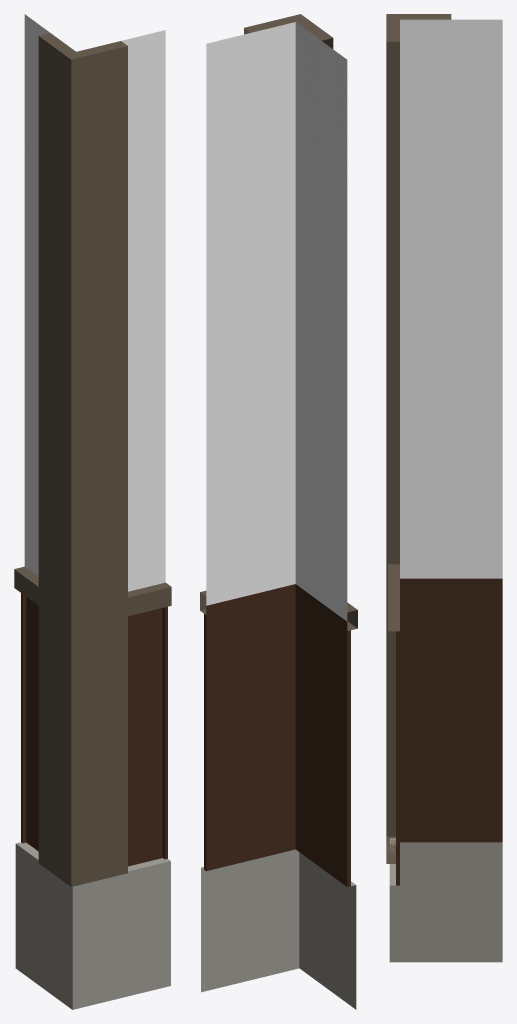
The model's file is base-c1_close.fbx.
3 renders of one model, left to right at view 1: azimuth 30°, elevation 25°; view 2: azimuth 210°, elevation 25°; view 3: azimuth 270°, elevation 25°, orthographic.
Parts seen in each view (by area): view 1: a2015/800/base-c1_close; view 2: a2015/800/base-c1_close; view 3: a2015/800/base-c1_close.
Part boxes in pixels (x1,y1,x2,y2): a2015/800/base-c1_close: (14,14,171,1009); a2015/800/base-c1_close: (200,14,357,1009); a2015/800/base-c1_close: (386,14,502,962).
Size of the model in its own units: 0.34 by 3.05 by 0.34.
